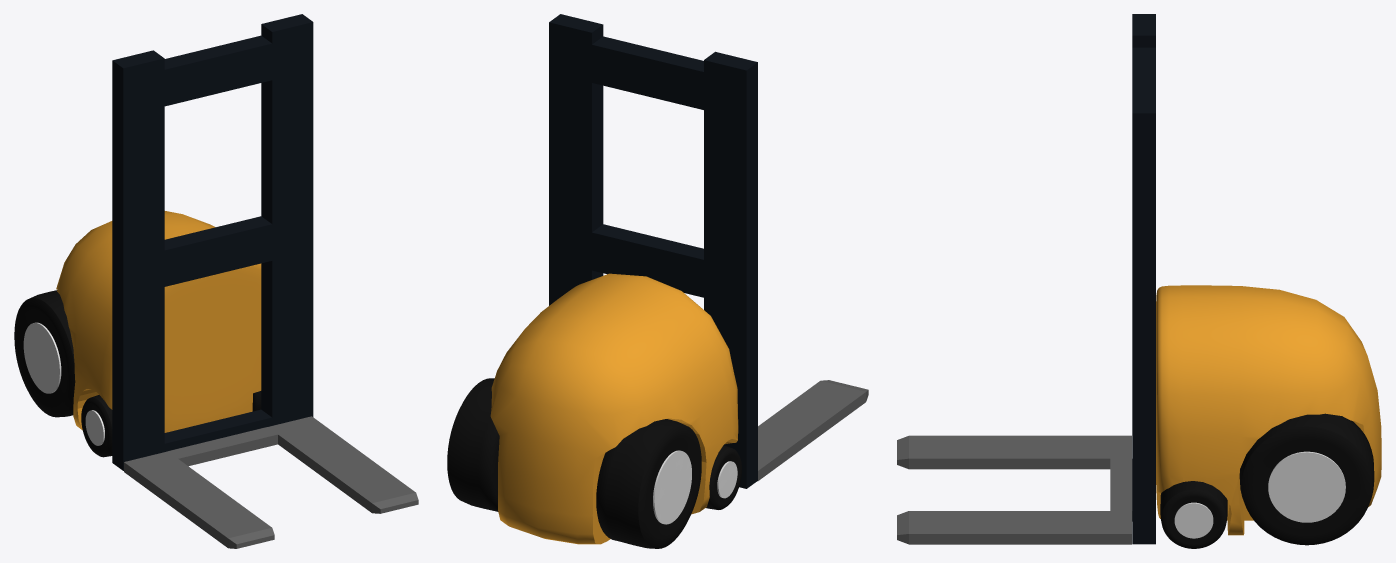
The model's file is Forky.fbx.
3 renders of one model, left to right at view 1: azimuth 30°, elevation 25°; view 2: azimuth 150°, elevation 25°; view 3: azimuth 270°, elevation 25°, orthographic. The views are drawn at different scales.
Visible parts, largest first — view 1: Forky, ForkyForks, ForkyWheels; view 2: Forky, ForkyWheels, ForkyForks; view 3: Forky, ForkyWheels, ForkyForks.
Part boxes in pixels (x1=…): Forky: x1=56, y1=14, x2=313, y2=470; ForkyForks: x1=124, y1=416, x2=418, y2=548; ForkyWheels: x1=14, y1=290, x2=261, y2=457; Forky: x1=490, y1=14, x2=757, y2=544; ForkyWheels: x1=447, y1=378, x2=741, y2=548; ForkyForks: x1=757, y1=380, x2=868, y2=481; Forky: x1=1132, y1=14, x2=1381, y2=544; ForkyWheels: x1=1160, y1=413, x2=1374, y2=548; ForkyForks: x1=897, y1=435, x2=1132, y2=544.
Size of the model in its own units: 100 by 206 by 206.
